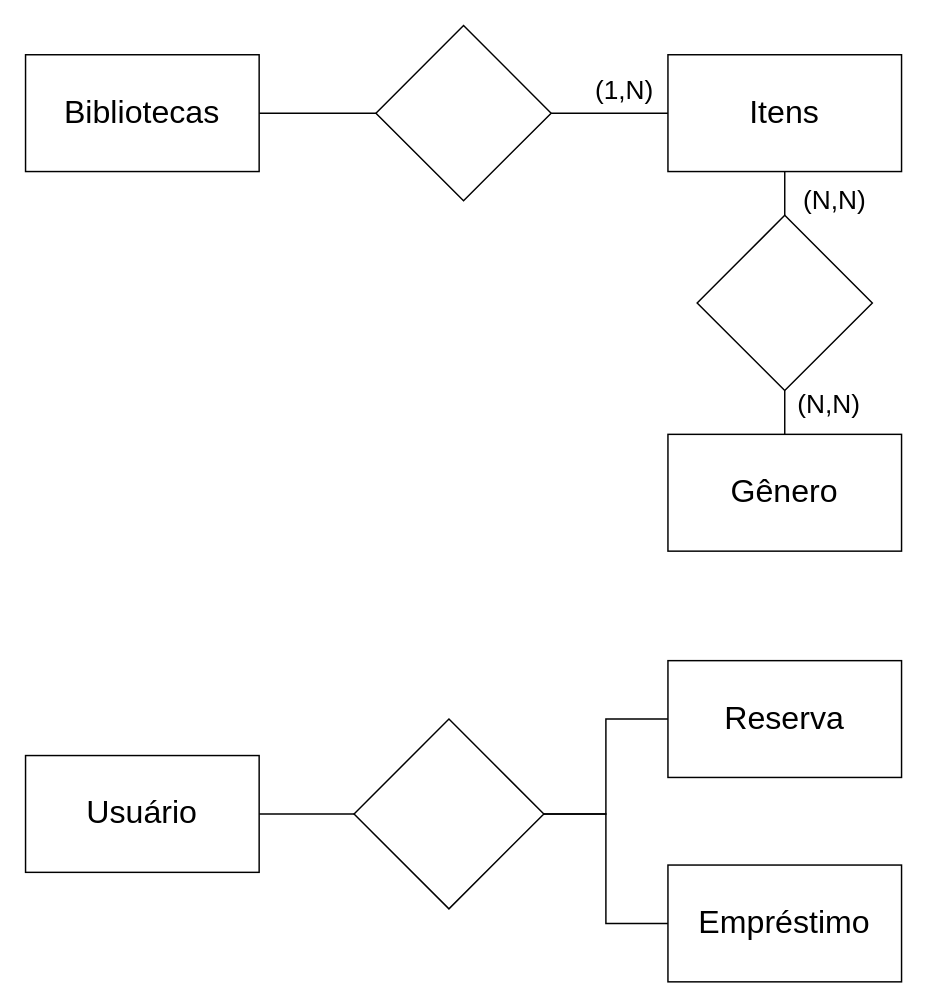
Some shapes in this 927 by 1007 pixel diagram are drawn without their labels. The centre of each missing label's shape, as x and y in pixels:
categoriza: (x=784, y=302)
possui: (x=462, y=112)
realiza: (x=448, y=813)
